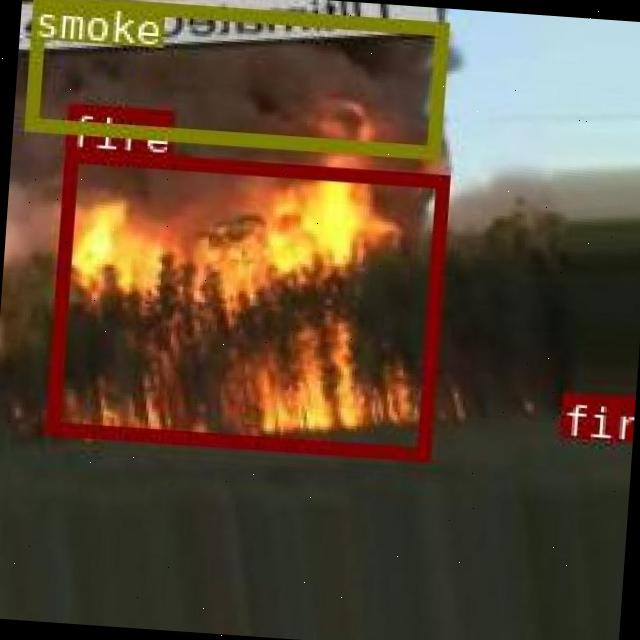fire: (44, 146, 447, 459), (558, 392, 630, 426)
smoke: (22, 0, 444, 157)
